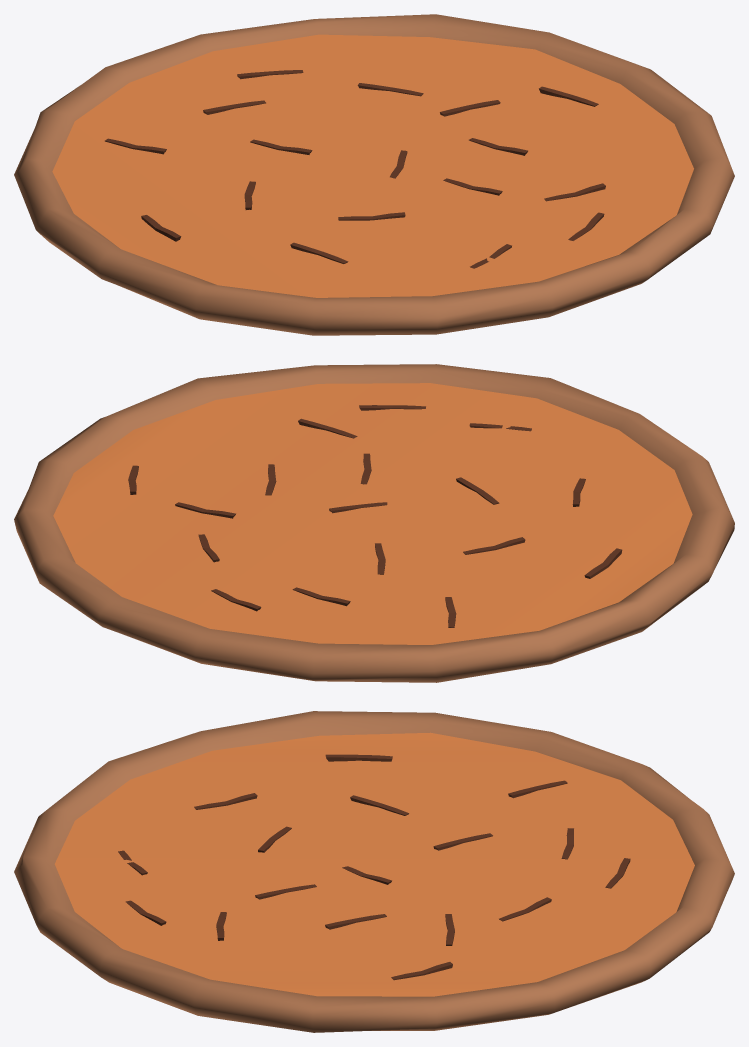
The model's file is American.fbx.
3 renders of one model, top to bottom at view 1: azimuth 30°, elevation 25°; view 2: azimuth 150°, elevation 25°; view 3: azimuth 270°, elevation 25°, orthographic.
Visible parts, largest first — view 1: Circle; view 2: Circle; view 3: Circle.
Part boxes in pixels (x1,y1,x2,y2): Circle: (14, 14, 734, 335); Circle: (14, 364, 734, 682); Circle: (14, 711, 734, 1032).
Bounding box in the file's own units: 199 × 10.21 × 202.
